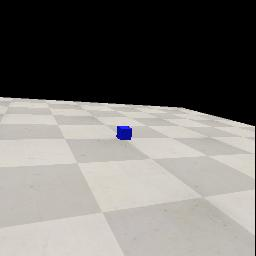box: (116, 126, 132, 140)
